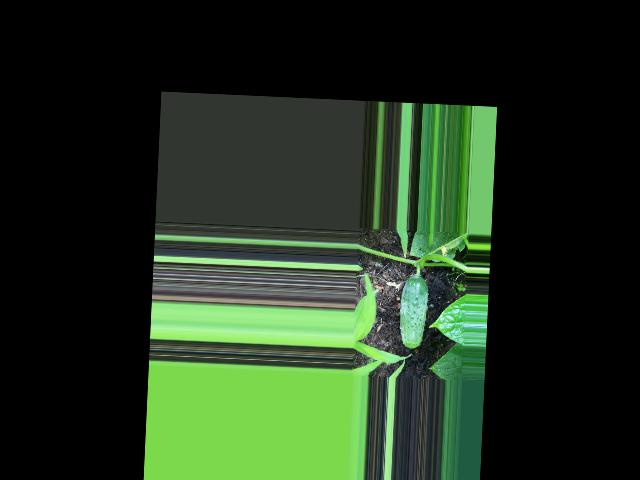cucumber: (397, 274, 428, 350)
